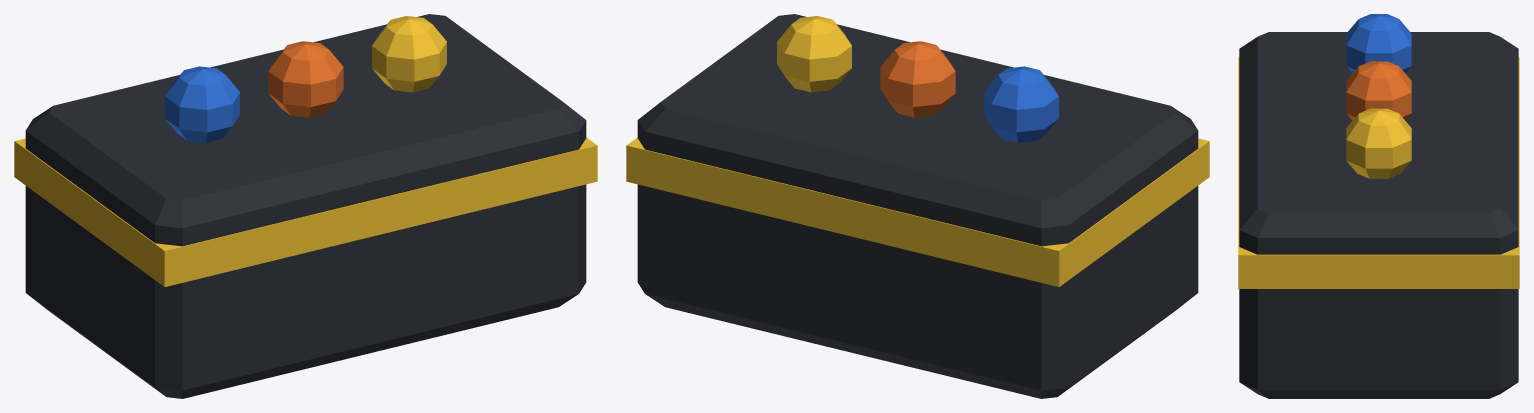
File: grenade_crate.glb
3 renders of one model, left to right at view 1: azimuth 30°, elevation 25°; view 2: azimuth 150°, elevation 25°; view 3: azimuth 270°, elevation 25°, orthographic. The views are drawn at different scales.
Visible parts, largest first — view 1: grenade_crate; view 2: grenade_crate; view 3: grenade_crate.
Part boxes in pixels (bbox=[...]): grenade_crate: bbox=[14, 14, 597, 398]; grenade_crate: bbox=[626, 14, 1209, 398]; grenade_crate: bbox=[1238, 14, 1519, 398].
Size of the model in its own units: 0.502 by 0.29 by 0.302.
